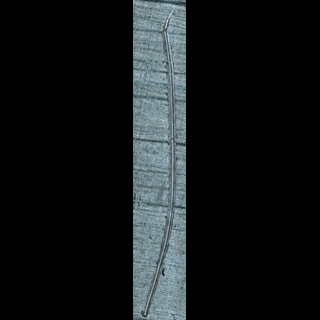d: (139, 5, 178, 317)
